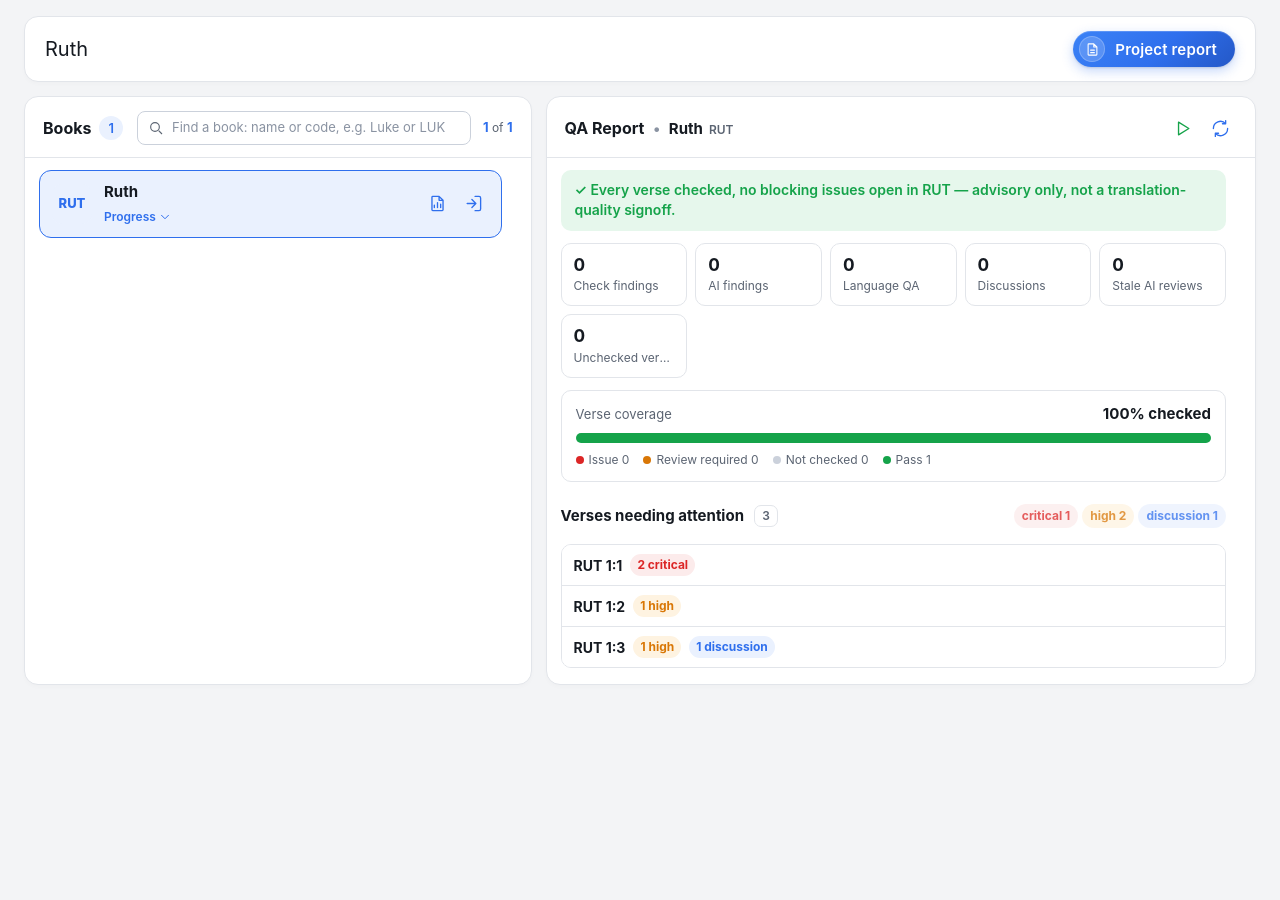
Scenario: ProjectDashboard › filters the queue by what a row carries and pages the filtered list
This screenshot has width=1280, height=900.
Expected: the text "3" is shown, [754,505,778,527]
Step 1. Click the button "high 2" → (1108, 516), box [1082,504,1134,528]
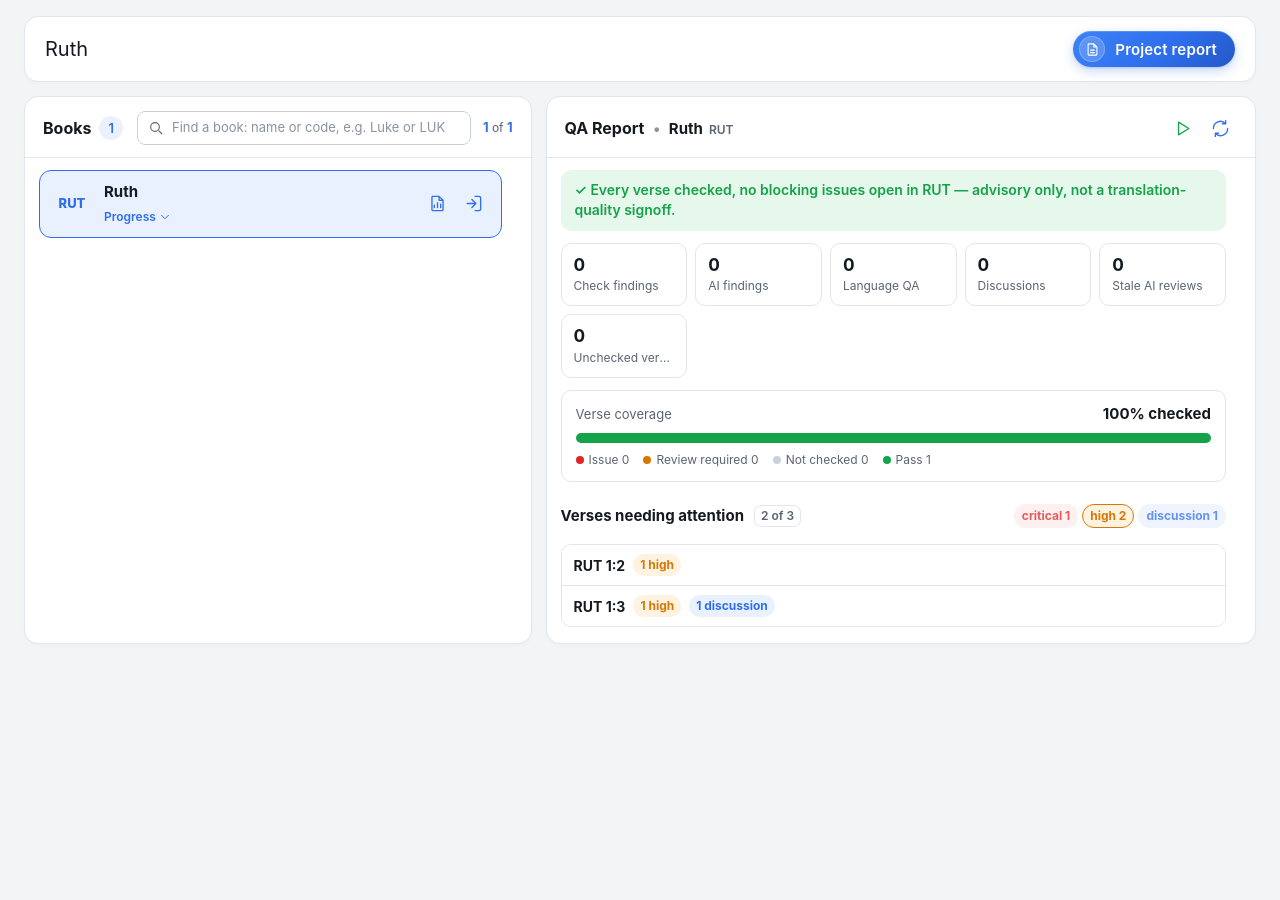
Expected: the text "RUT 1:2" is shown 2 times, [574,555,625,576]; [574,596,625,617]
Expected: the button "RUT 1:1" is gone
Step 2. Click the button "high 2" → (1108, 516), box [1082,504,1134,528]
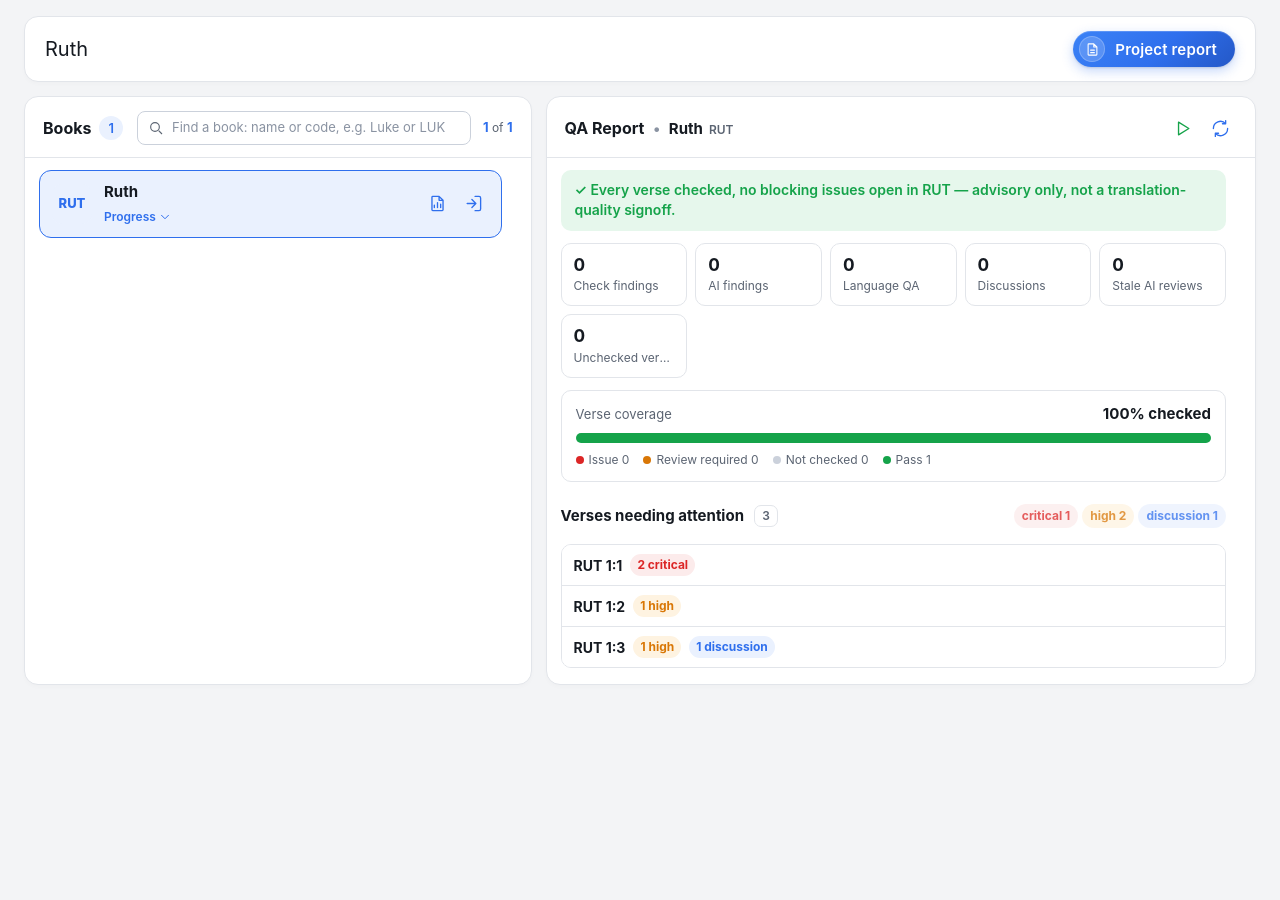
Expected: the text "RUT 1:1" is shown 3 times, [574,555,622,576]; [574,596,625,617]; [574,637,625,658]
